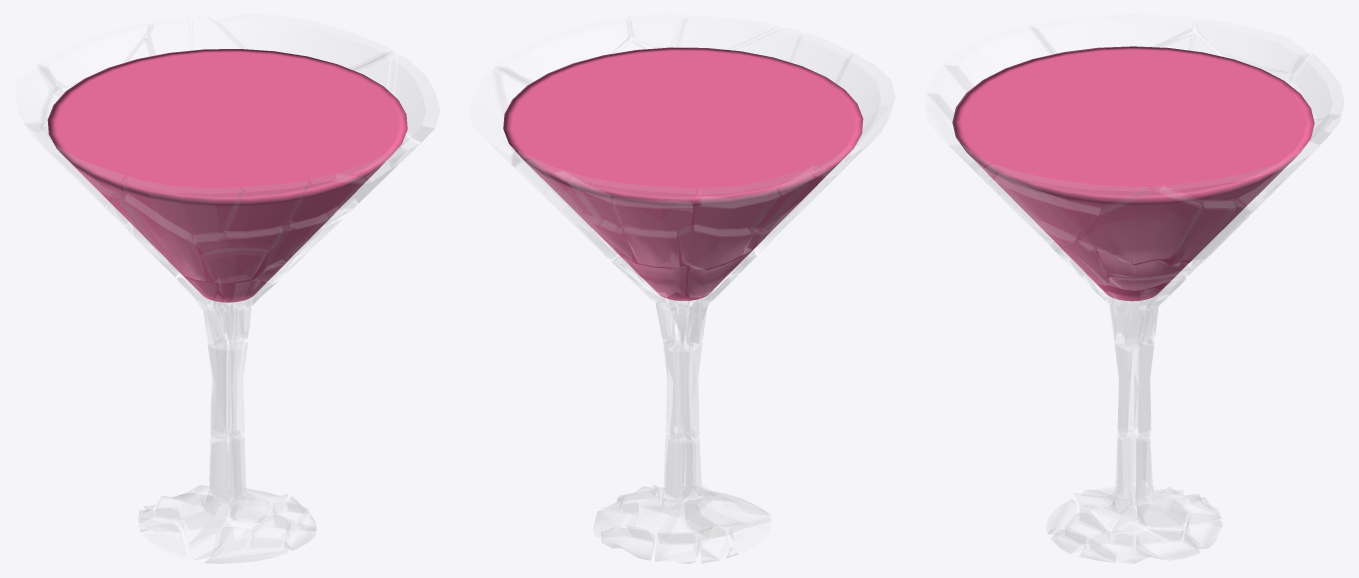
The model's file is CocktailWater.obj.
3 renders of one model, left to right at view 1: azimuth 30°, elevation 25°; view 2: azimuth 150°, elevation 25°; view 3: azimuth 270°, elevation 25°, orthographic.
Parts seen in each view (by area): view 1: 円錐, 立方体.002_cell.093, 立方体.002_cell.050, 立方体.002_cell.056, 立方体.002_cell.019, 立方体.002_cell.031, 立方体.002_cell.022, 立方体.002_cell.087, 立方体.002_cell.018, 立方体.002_cell.074, 立方体.002_cell.017, 立方体.002_cell.007 (+31 smaller); view 2: 円錐, 立方体.002_cell.019, 立方体.002_cell.086, 立方体.002_cell.085, 立方体.002_cell.050, 立方体.002_cell.056, 立方体.002_cell.058, 立方体.002_cell.093, 立方体.002_cell.087, 立方体.002_cell.010, 立方体.002_cell.092, 立方体.002_cell.005 (+33 smaller); view 3: 円錐, 立方体.002_cell.074, 立方体.002_cell.045, 立方体.002_cell.050, 立方体.002_cell.087, 立方体.002_cell.093, 立方体.002_cell.019, 立方体.002_cell.073, 立方体.002_cell.056, 立方体.002_cell.059, 立方体.002_cell.022, 立方体.002_cell.040 (+32 smaller).
Part boxes in pixels (bbox=[...]): 円錐: bbox=[47, 49, 407, 302]; 立方体.002_cell.093: bbox=[215, 14, 393, 69]; 立方体.002_cell.050: bbox=[123, 176, 243, 241]; 立方体.002_cell.056: bbox=[37, 23, 149, 89]; 立方体.002_cell.019: bbox=[388, 55, 439, 141]; 立方体.002_cell.031: bbox=[118, 195, 205, 280]; 立方体.002_cell.022: bbox=[208, 343, 233, 438]; 立方体.002_cell.087: bbox=[15, 68, 55, 130]; 立方体.002_cell.018: bbox=[210, 438, 236, 508]; 立方体.002_cell.074: bbox=[25, 125, 124, 197]; 立方体.002_cell.017: bbox=[200, 248, 269, 282]; 立方体.002_cell.007: bbox=[205, 539, 290, 563]; 円錐: bbox=[503, 47, 863, 300]; 立方体.002_cell.019: bbox=[495, 19, 629, 83]; 立方体.002_cell.086: bbox=[695, 190, 779, 235]; 立方体.002_cell.085: bbox=[679, 225, 764, 268]; 立方体.002_cell.050: bbox=[835, 54, 894, 145]; 立方体.002_cell.056: bbox=[555, 171, 695, 207]; 立方体.002_cell.058: bbox=[677, 15, 780, 49]; 立方体.002_cell.093: bbox=[470, 70, 520, 166]; 立方体.002_cell.087: bbox=[699, 166, 822, 207]; 立方体.002_cell.010: bbox=[789, 34, 853, 83]; 立方体.002_cell.092: bbox=[613, 200, 692, 236]; 立方体.002_cell.005: bbox=[617, 227, 678, 266]; 円錐: bbox=[952, 46, 1314, 301]; 立方体.002_cell.074: bbox=[1031, 14, 1194, 53]; 立方体.002_cell.045: bbox=[1080, 186, 1201, 263]; 立方体.002_cell.050: bbox=[945, 26, 1053, 91]; 立方体.002_cell.087: bbox=[1194, 19, 1308, 73]; 立方体.002_cell.093: bbox=[1159, 142, 1319, 207]; 立方体.002_cell.019: bbox=[984, 164, 1149, 214]; 立方体.002_cell.073: bbox=[989, 173, 1099, 241]; 立方体.002_cell.056: bbox=[1290, 53, 1343, 119]; 立方体.002_cell.059: bbox=[1173, 201, 1235, 265]; 立方体.002_cell.022: bbox=[1115, 336, 1142, 431]; 立方体.002_cell.040: bbox=[1098, 250, 1192, 279].
Size of the model in its own units: 0.2776 by 0.309 by 0.2776.
